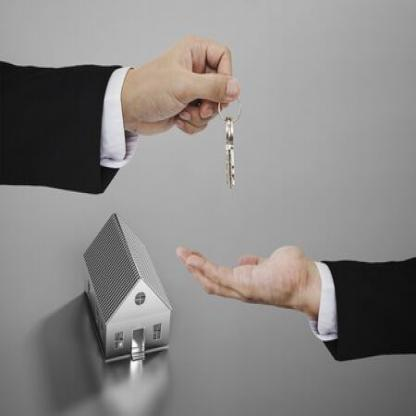keys: (221, 113, 238, 192)
